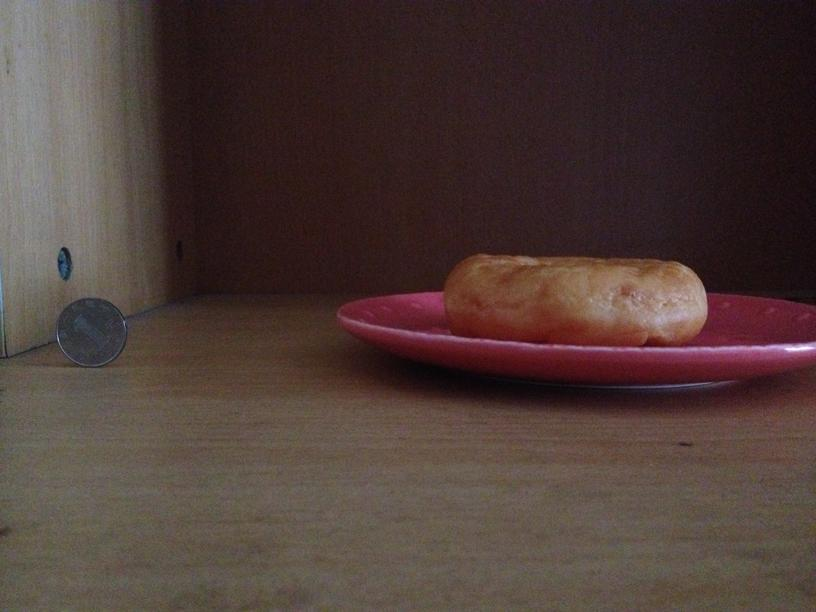coin: (56, 298, 129, 365)
doughnut: (443, 250, 708, 343)
